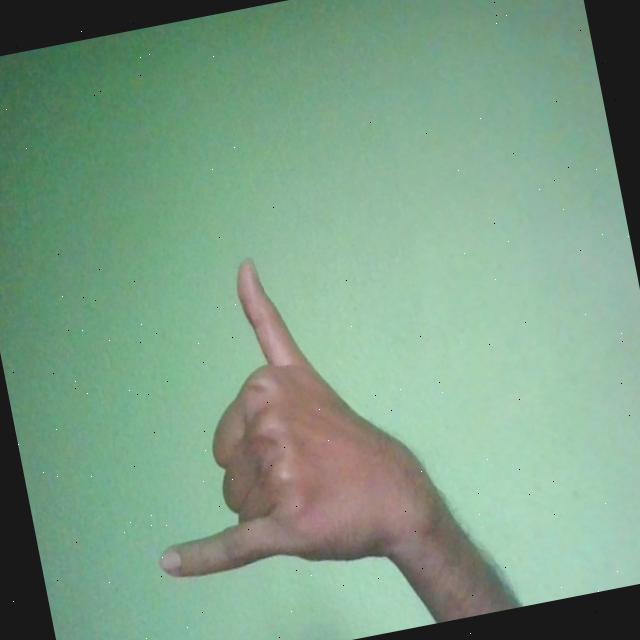Call Me: (108, 231, 452, 598)
